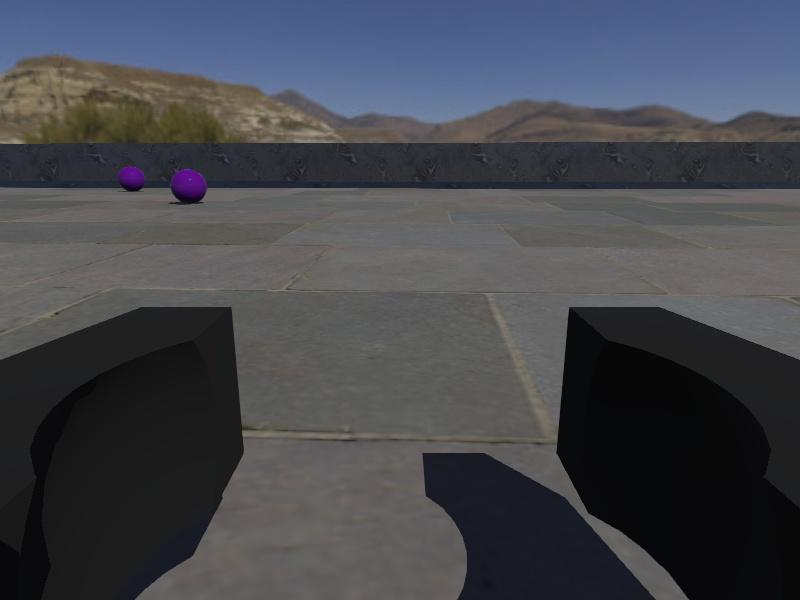violet ball: (170, 168, 206, 204), (117, 165, 145, 190)
